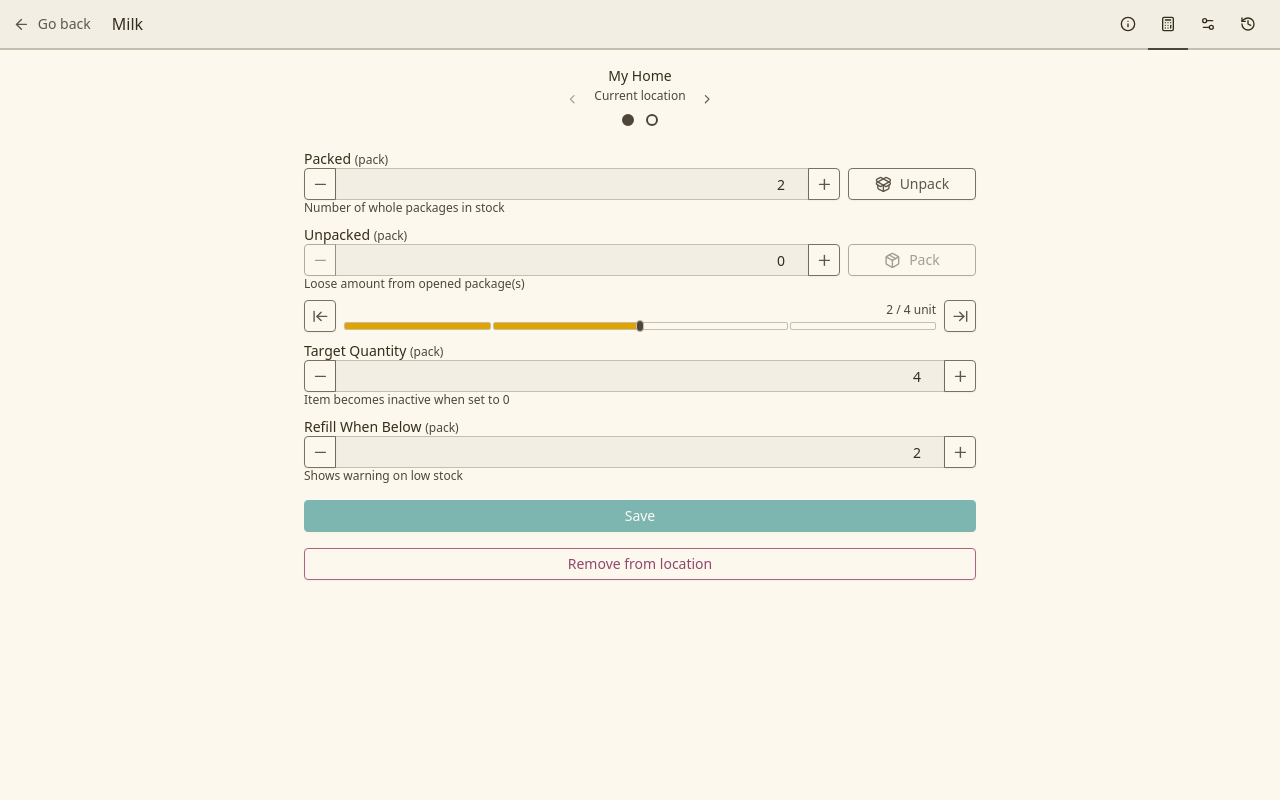
Test: Item stock tab › user can page from the active location to another location stock
Expected: the number field labelled "Packed (pack)" holds "2", [335,168,809,200]
// When the user pages to the other location
Click the button named "next location".
click(708, 99)  # box [694,85,722,113]
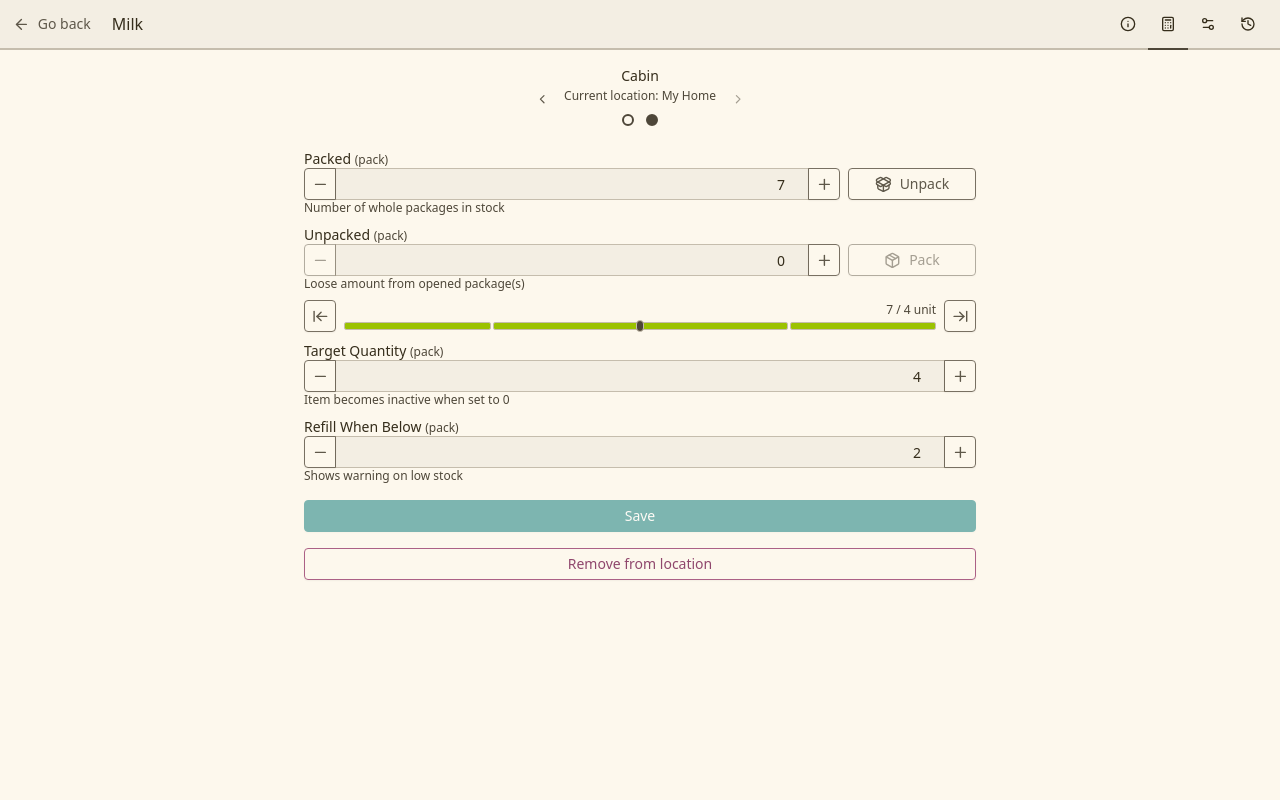
Expected: the number field labelled "Packed (pack)" holds "7", [335,168,809,200]
